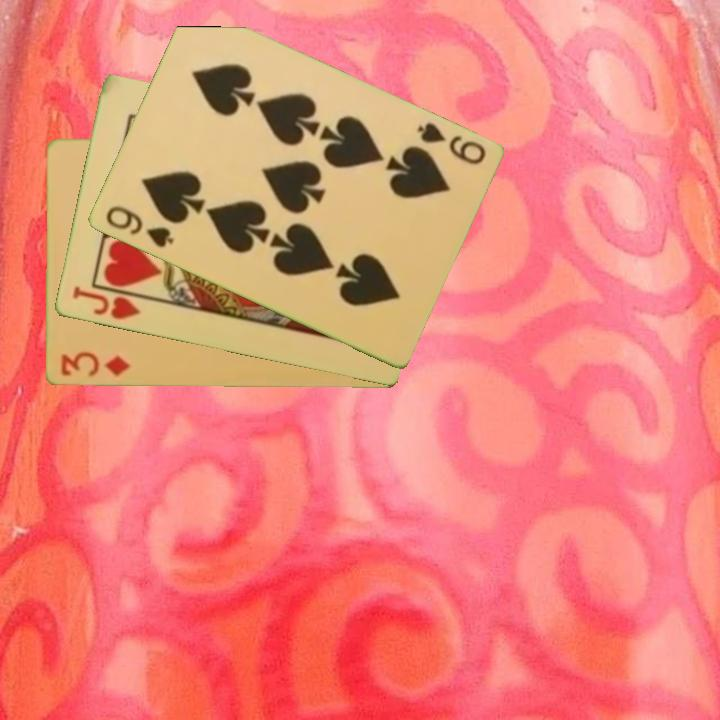3d: (58, 349, 133, 380)
9s: (413, 119, 489, 168), (101, 202, 176, 251)
Jh: (68, 282, 143, 323)
